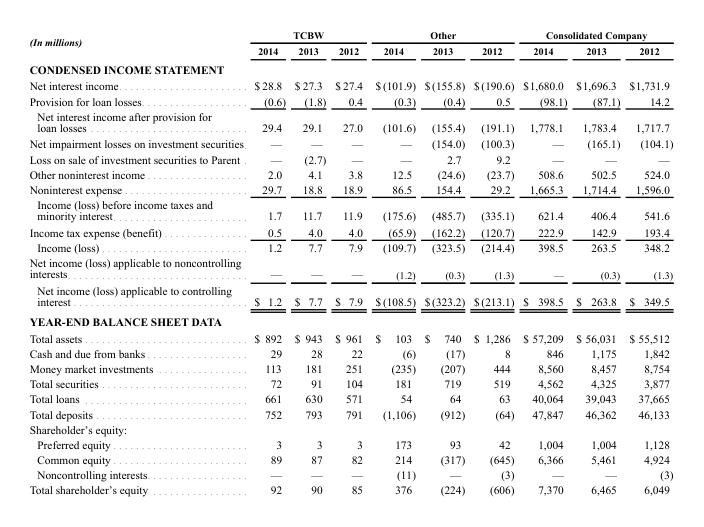table: (28, 28, 672, 495)
table column: (28, 28, 249, 495), (517, 28, 570, 495), (570, 28, 623, 495), (368, 28, 419, 495), (419, 28, 468, 495), (468, 28, 517, 495), (623, 28, 672, 495), (249, 28, 289, 495), (289, 28, 329, 495), (329, 28, 368, 495)
table column header: (28, 28, 672, 59)
table projected row header: (28, 59, 672, 77), (28, 311, 672, 329), (28, 421, 672, 436)
table row: (28, 281, 672, 311), (28, 108, 672, 135), (28, 196, 672, 223), (28, 254, 672, 281), (28, 59, 672, 77), (28, 311, 672, 329), (28, 42, 672, 59), (28, 77, 672, 93), (28, 135, 672, 151), (28, 223, 672, 239), (28, 329, 672, 345), (28, 375, 672, 391), (28, 466, 672, 482), (28, 93, 672, 108), (28, 151, 672, 166), (28, 166, 672, 181), (28, 181, 672, 196), (28, 239, 672, 254), (28, 345, 672, 360), (28, 360, 672, 375), (28, 391, 672, 406), (28, 406, 672, 421), (28, 421, 672, 436), (28, 436, 672, 451), (28, 451, 672, 466), (28, 28, 672, 42), (28, 482, 672, 495)
table spanning cell: (28, 28, 249, 59), (517, 28, 672, 42), (368, 28, 517, 42), (249, 28, 368, 42)
